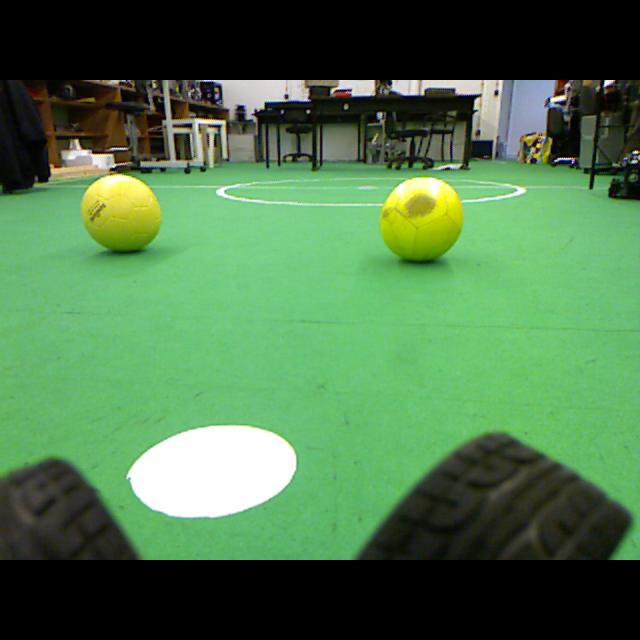ball: (380, 177, 462, 262), (81, 175, 160, 252)
